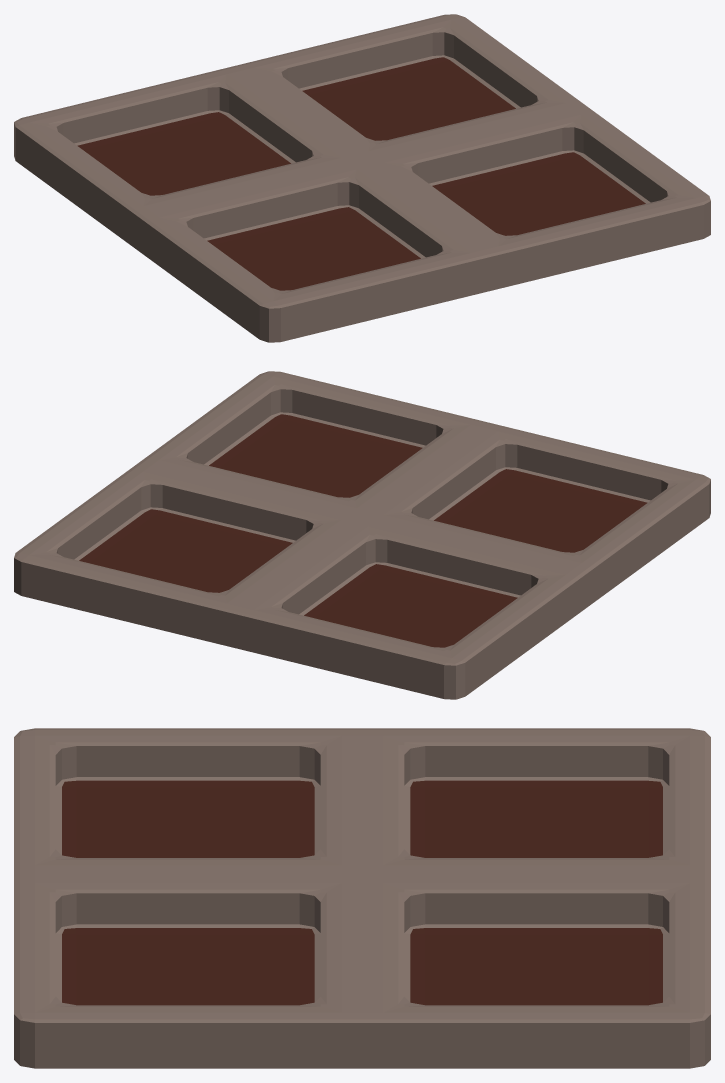
File: ricefield.fbx
3 views of the same model, one above another, from view 1: azimuth 30°, elevation 25°; view 2: azimuth 150°, elevation 25°; view 3: azimuth 270°, elevation 25° (orthographic). The views are drawn at different scales.
Visible parts, largest first — view 1: Cube; view 2: Cube; view 3: Cube.
Boxes of the visible parts, left/top/right/bottom form: Cube: left=14, top=14, right=710, bottom=342; Cube: left=14, top=371, right=710, bottom=699; Cube: left=14, top=728, right=710, bottom=1068.
Bounding box in the file's own units: 2600 × 200 × 2600.
